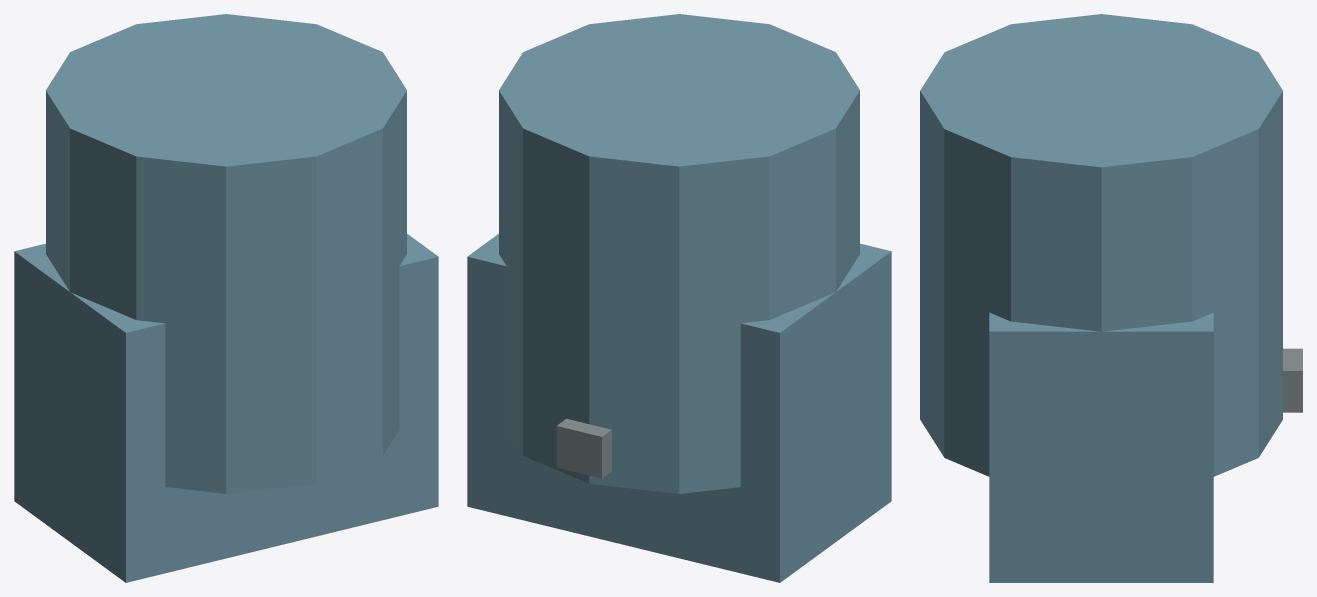
Rendered from PRP_STREET_002_mailbox.glb.
The picture shows the model from 3 angles, left to right: view 1: azimuth 30°, elevation 25°; view 2: azimuth 150°, elevation 25°; view 3: azimuth 270°, elevation 25°; orthographic projection.
Parts seen in each view (by area): view 1: Part_01, Part_15, Part_02, Part_18, Part_12, Part_21, Part_09, Part_24, Part_07, Part_28, Part_10, Part_25 (+9 smaller); view 2: Part_00, Part_30, Part_02, Part_27, Part_33, Part_24, Part_36, Part_21, Part_19, Part_40, Part_22, Part_37 (+10 smaller); view 3: Part_03, Part_09, Part_36, Part_39, Part_06, Part_33, Part_12, Part_13, Part_34, Part_16, Part_31, Part_25 (+9 smaller).
Part boxes in pixels (x1=…): Part_01: x1=126, y1=257, x2=438, y2=582; Part_15: x1=226, y1=156, x2=316, y2=493; Part_02: x1=14, y1=251, x2=125, y2=582; Part_18: x1=136, y1=156, x2=226, y2=493; Part_12: x1=316, y1=128, x2=382, y2=483; Part_21: x1=70, y1=128, x2=136, y2=319; Part_09: x1=383, y1=91, x2=406, y2=454; Part_24: x1=46, y1=91, x2=69, y2=291; Part_07: x1=227, y1=52, x2=406, y2=90; Part_28: x1=46, y1=52, x2=225, y2=90; Part_10: x1=227, y1=90, x2=406, y2=128; Part_25: x1=46, y1=90, x2=225, y2=128; Part_00: x1=467, y1=257, x2=779, y2=582; Part_30: x1=589, y1=156, x2=679, y2=493; Part_02: x1=780, y1=251, x2=891, y2=582; Part_27: x1=679, y1=156, x2=769, y2=493; Part_33: x1=523, y1=128, x2=589, y2=483; Part_24: x1=769, y1=128, x2=835, y2=319; Part_36: x1=499, y1=91, x2=522, y2=454; Part_21: x1=836, y1=91, x2=859, y2=291; Part_19: x1=680, y1=52, x2=859, y2=90; Part_40: x1=499, y1=52, x2=678, y2=90; Part_22: x1=680, y1=90, x2=859, y2=128; Part_37: x1=499, y1=90, x2=678, y2=128; Part_03: x1=989, y1=331, x2=1213, y2=582; Part_09: x1=944, y1=129, x2=1010, y2=476; Part_36: x1=1192, y1=129, x2=1258, y2=476; Part_39: x1=1101, y1=157, x2=1192, y2=331; Part_06: x1=1011, y1=157, x2=1101, y2=331; Part_33: x1=1258, y1=91, x2=1282, y2=457; Part_12: x1=920, y1=91, x2=944, y2=456; Part_13: x1=920, y1=90, x2=1100, y2=128; Part_34: x1=1102, y1=90, x2=1282, y2=128; Part_16: x1=920, y1=52, x2=1100, y2=90; Part_31: x1=1102, y1=52, x2=1282, y2=90; Part_25: x1=1101, y1=14, x2=1191, y2=90.
Size of the model in its own units: 0.55 by 0.695 by 0.58.
